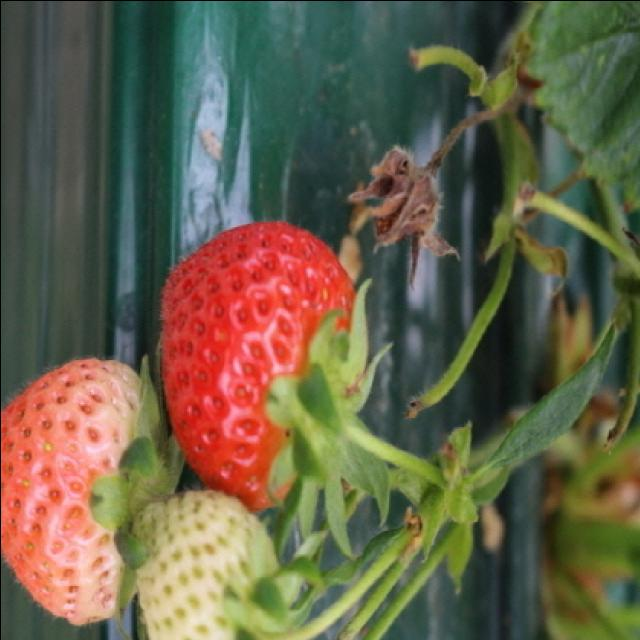Gray Mold: (347, 145, 460, 296)
